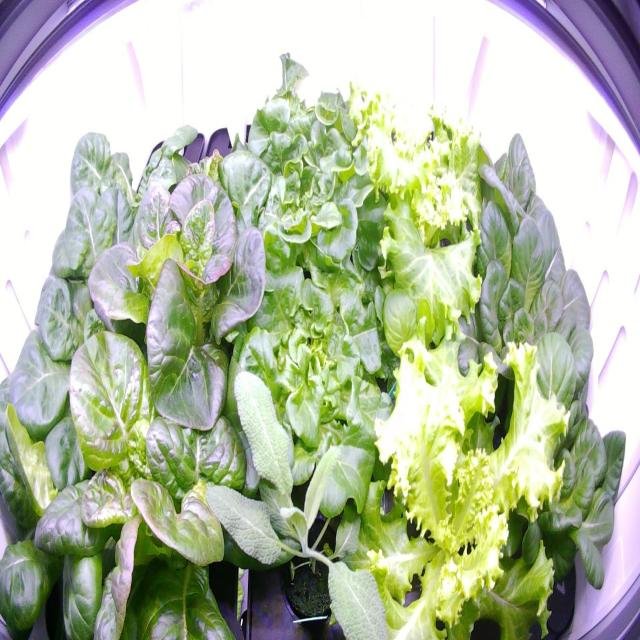Ready: (36, 294, 286, 639), (81, 129, 278, 442), (458, 360, 629, 639), (2, 362, 167, 639), (444, 188, 598, 414), (3, 237, 157, 454), (42, 118, 204, 293), (419, 104, 539, 260)
